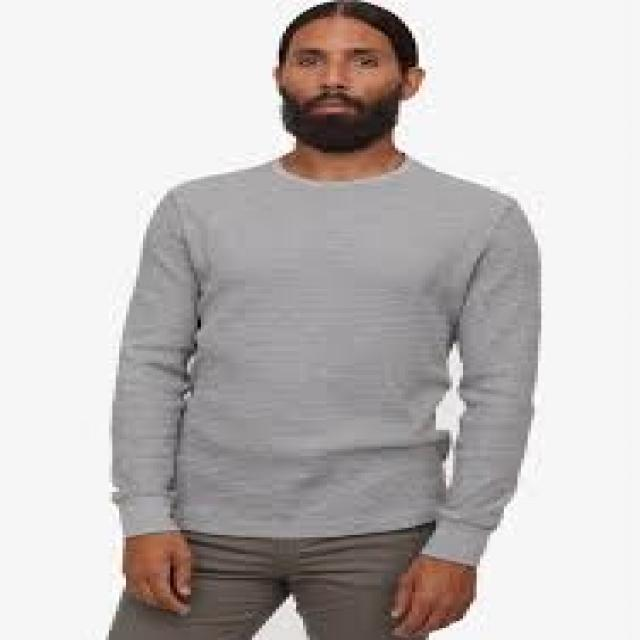plain: (107, 152, 542, 536)
